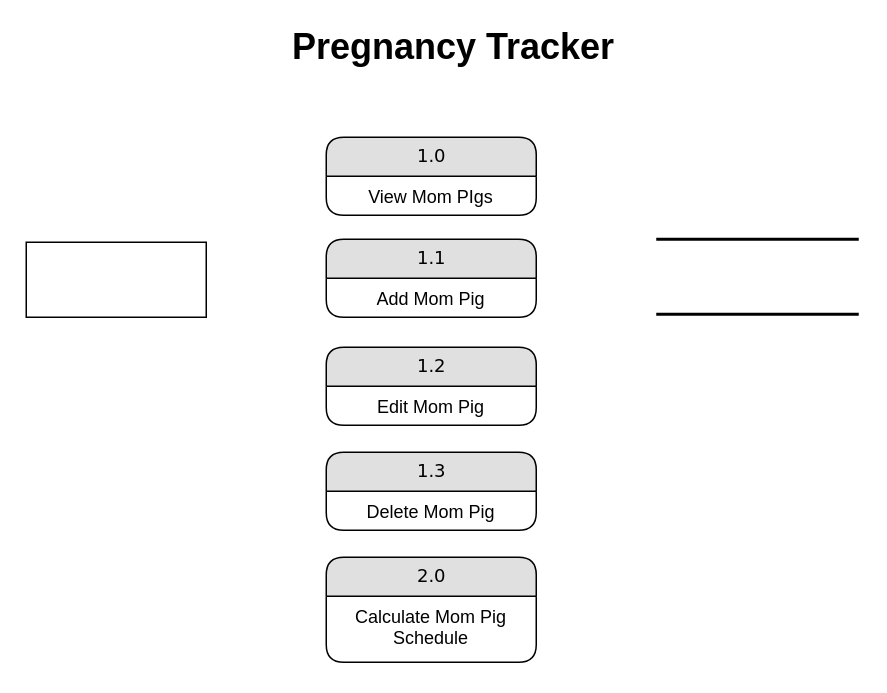
This 887x693 diagram has some shape labels left out. The centre of each missing label's shape, as x and y in pixels:
mom_pigs: the point at 757,276
User: the point at 115,279
